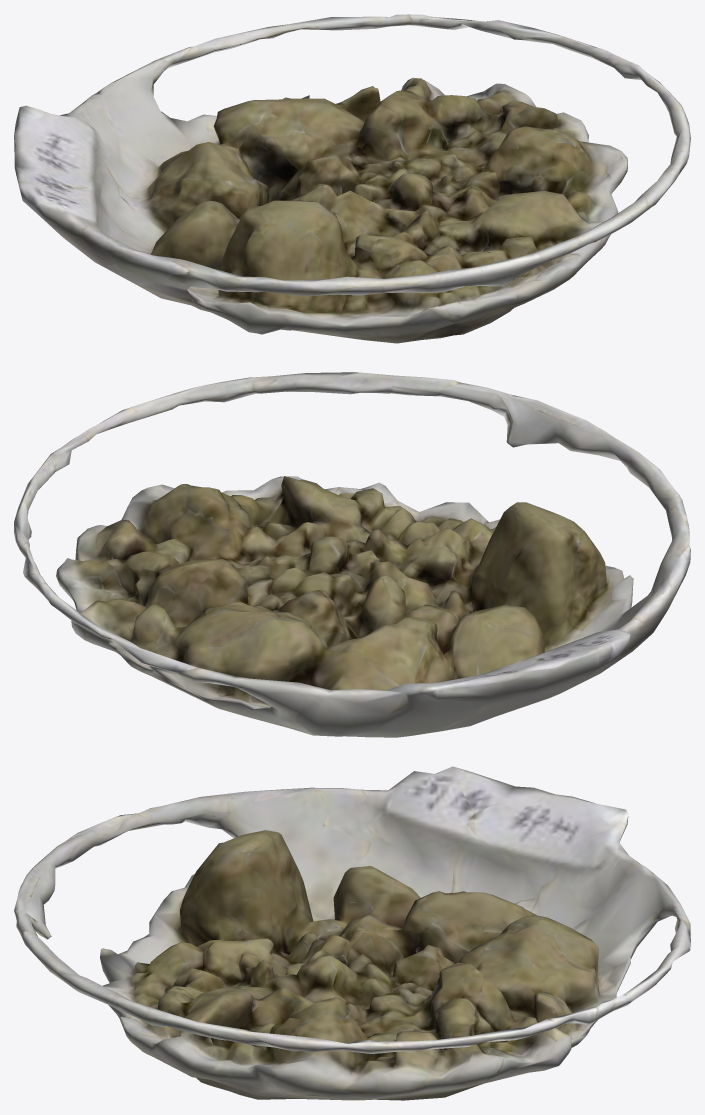
Rendered from hall.glb.
The picture shows the model from 3 angles, top to bottom: view 1: azimuth 30°, elevation 25°; view 2: azimuth 150°, elevation 25°; view 3: azimuth 270°, elevation 25°; orthographic projection. The views are drawn at different scales.
Size of the model in its own units: 0.6302 by 0.1542 by 0.6174.
Materials: 1 (1 with a texture image).
